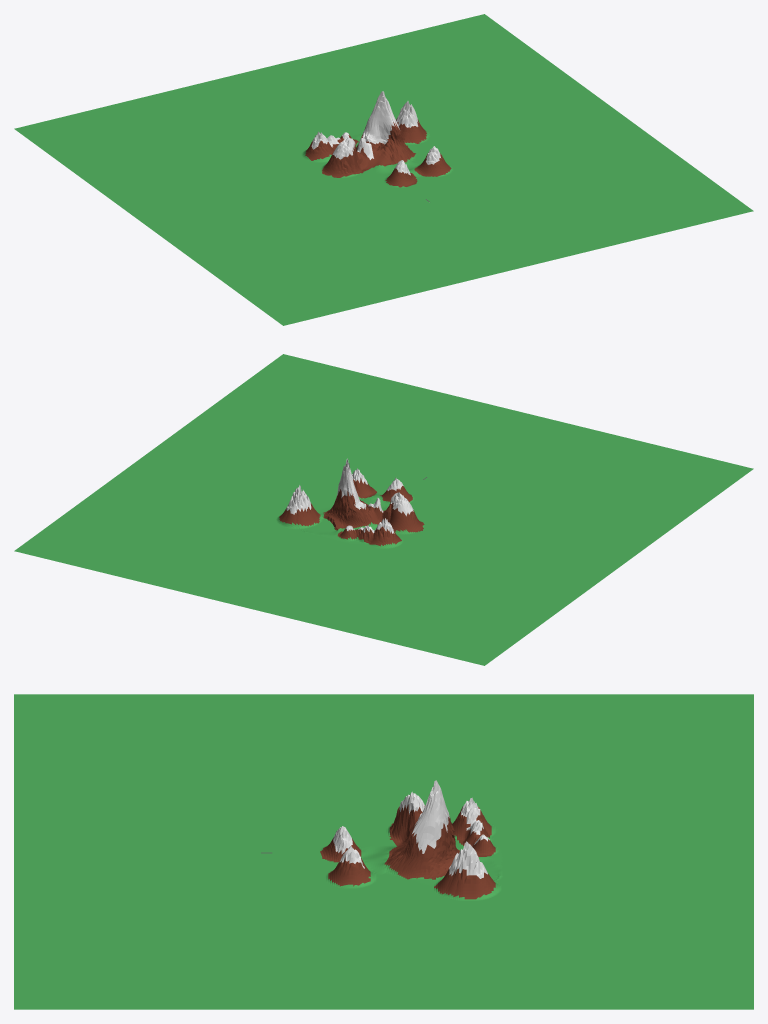
Rendered from mountains.glb.
3 renders of one model, top to bottom at view 1: azimuth 30°, elevation 25°; view 2: azimuth 150°, elevation 25°; view 3: azimuth 270°, elevation 25°, orthographic. The views are drawn at different scales.
Visible parts, largest first — view 1: Plane; view 2: Plane; view 3: Plane.
Part boxes in pixels (x1,y1,x2,y2): Plane: [14, 14, 753, 325]; Plane: [14, 354, 753, 665]; Plane: [14, 694, 753, 1009].
Bounding box in the file's own units: 121 × 15.01 × 120.
